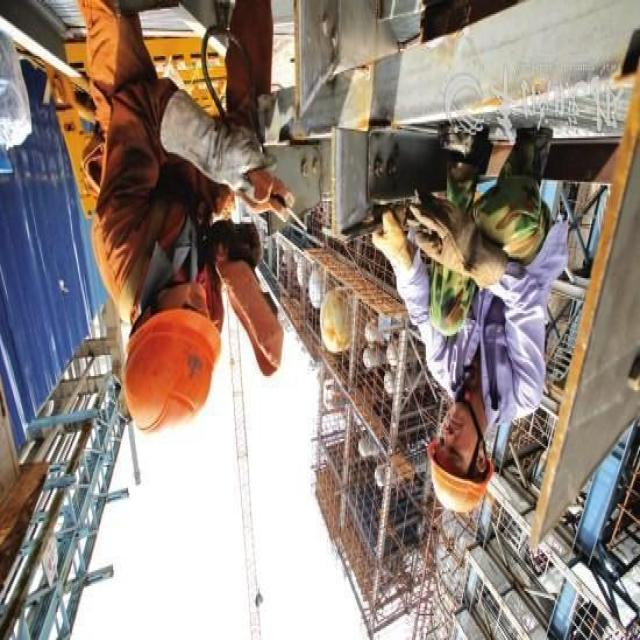helmet: (118, 309, 232, 447), (414, 442, 498, 518)
